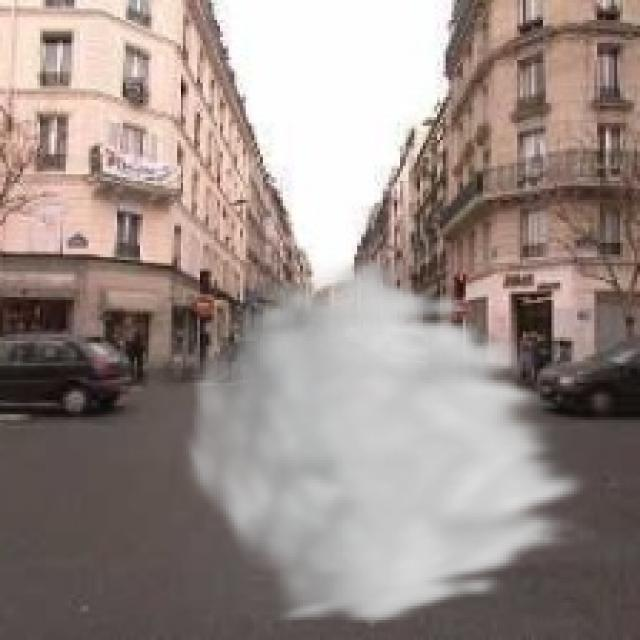smoke: (177, 254, 600, 629)
